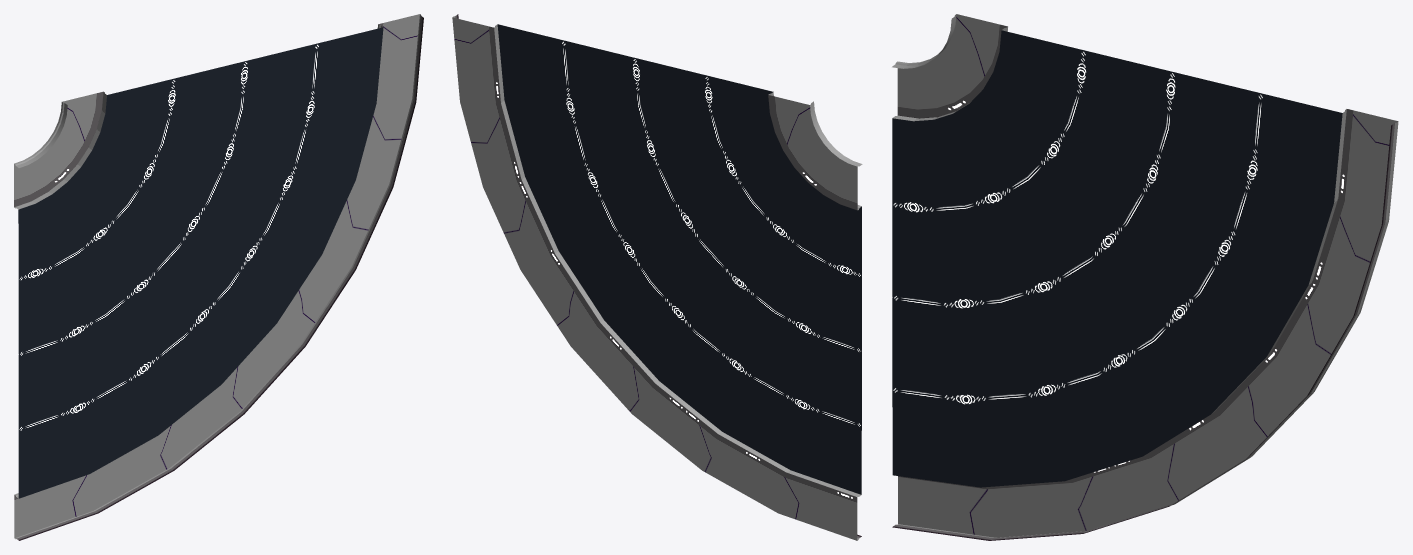
Rendered from SM_L_Road90 1.fbx.
3 views of the same model, side by side, from view 1: azimuth 30°, elevation 25°; view 2: azimuth 150°, elevation 25°; view 3: azimuth 330°, elevation 25° (orthographic). The views are drawn at different scales.
Visible parts, largest first — view 1: SM_L_Road90; view 2: SM_L_Road90; view 3: SM_L_Road90.
Part boxes in pixels (x1,y1,x2,y2): SM_L_Road90: (14, 14, 423, 540); SM_L_Road90: (452, 14, 862, 540); SM_L_Road90: (892, 14, 1398, 540).
Size of the model in its own units: 5580 by 119 by 5587.
